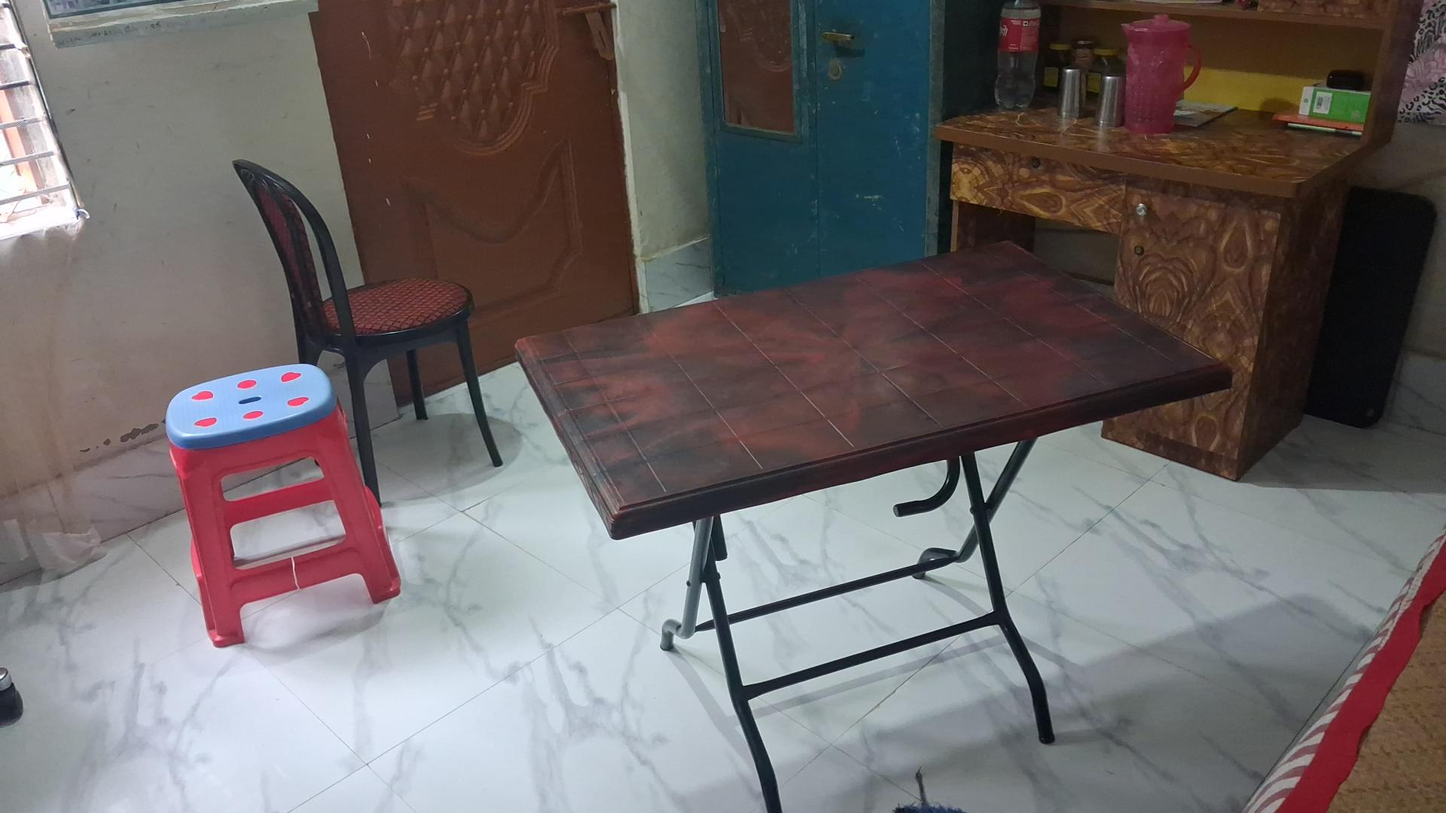Bottle: (994, 2, 1042, 112)
Chair: (232, 159, 504, 501)
Glass: (1057, 67, 1088, 118), (1096, 73, 1123, 129)
Jug: (1124, 14, 1203, 137)
Stool: (158, 362, 399, 643)
Table: (517, 243, 1232, 813)
